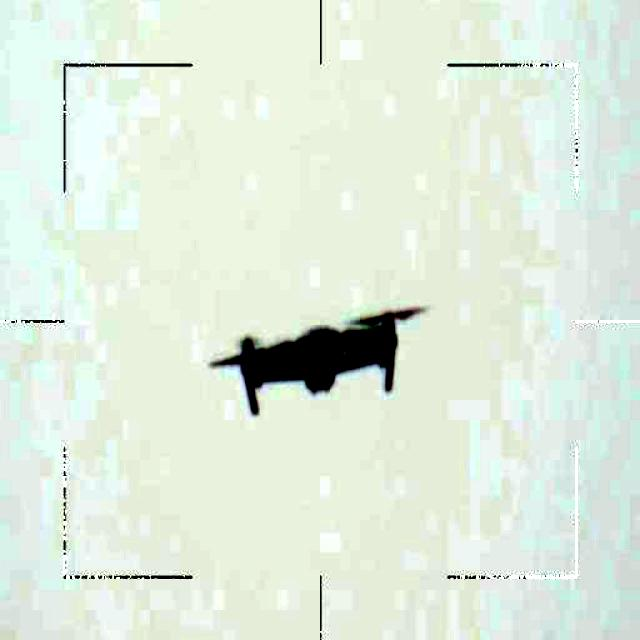bird: (198, 298, 440, 424)
